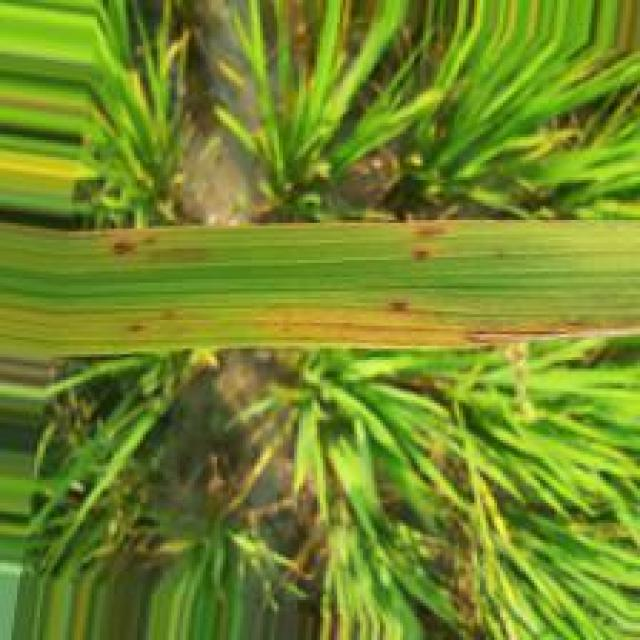Brown_Spot: (107, 232, 134, 262), (408, 239, 430, 267), (390, 292, 408, 321)
